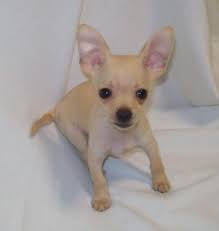chihuahua: (28, 12, 192, 218)
